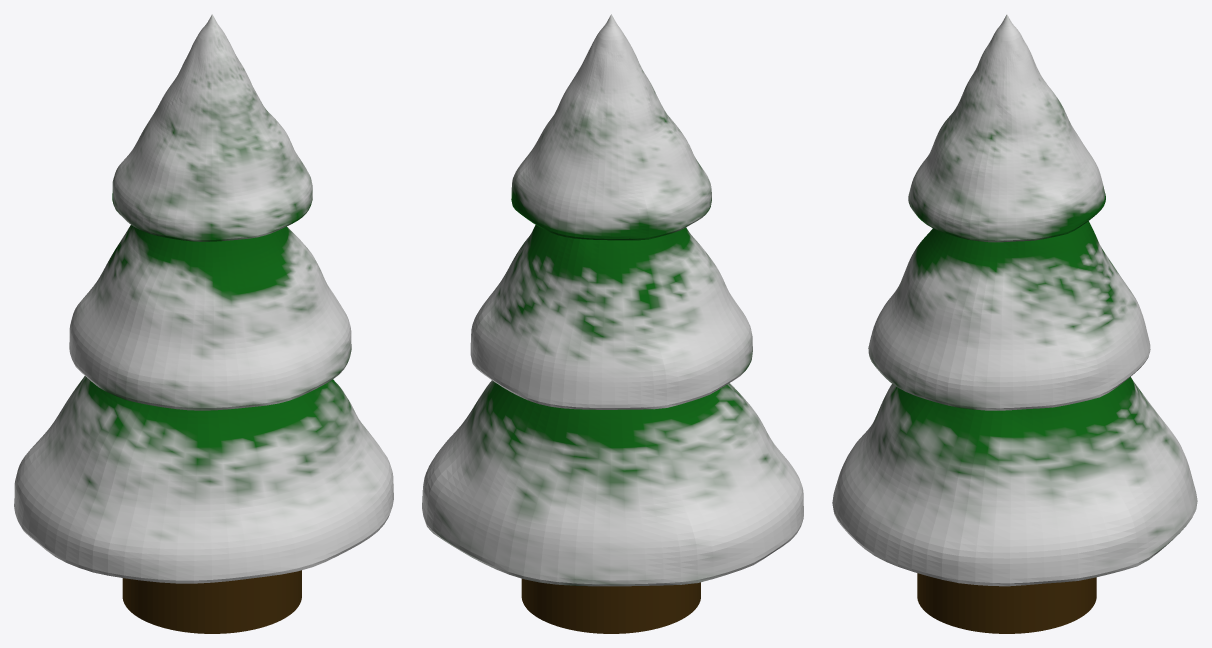
The model's file is tree_4.glb.
The picture shows the model from 3 angles, left to right: view 1: azimuth 30°, elevation 25°; view 2: azimuth 150°, elevation 25°; view 3: azimuth 270°, elevation 25°; orthographic projection.
Visible parts, largest first — view 1: Cylinder; view 2: Cylinder; view 3: Cylinder.
Boxes of the visible parts, left/top/right/bottom form: Cylinder: left=14, top=14, right=393, bottom=633; Cylinder: left=422, top=14, right=803, bottom=633; Cylinder: left=832, top=14, right=1197, bottom=633.
Size of the model in its own units: 1.34 by 2.24 by 1.27.
